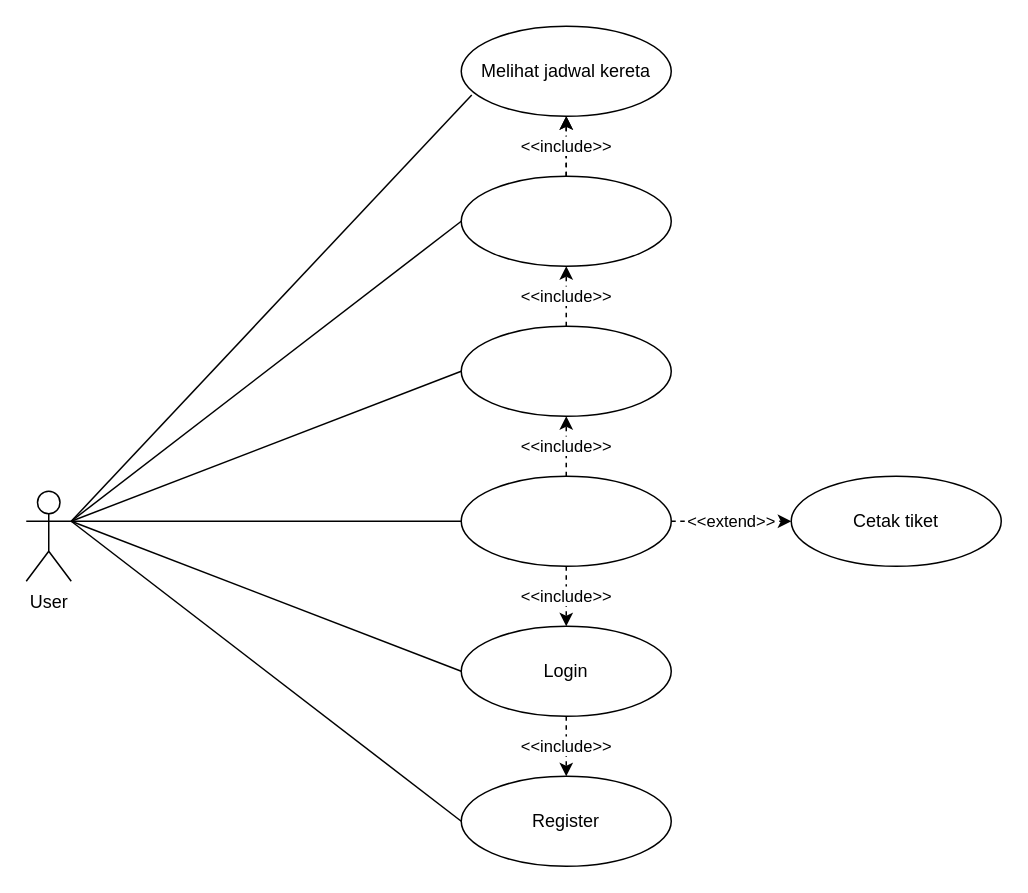
This 1028x893 diagram has some shape labels left out. Here are the shapes that lost their labels. From the top down, the box of each, then its label:
(460, 175, 671, 266): Booking kereta
(460, 325, 671, 416): Memilih pembayaran
(460, 475, 671, 566): Melakukan transaksi
